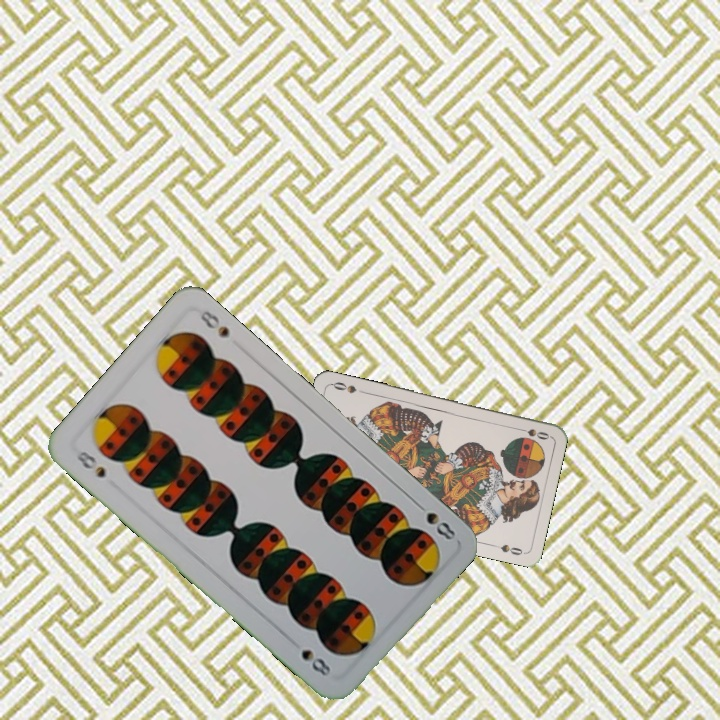S8: (410, 497, 458, 543), (72, 445, 109, 481)
SO: (512, 424, 552, 442)
